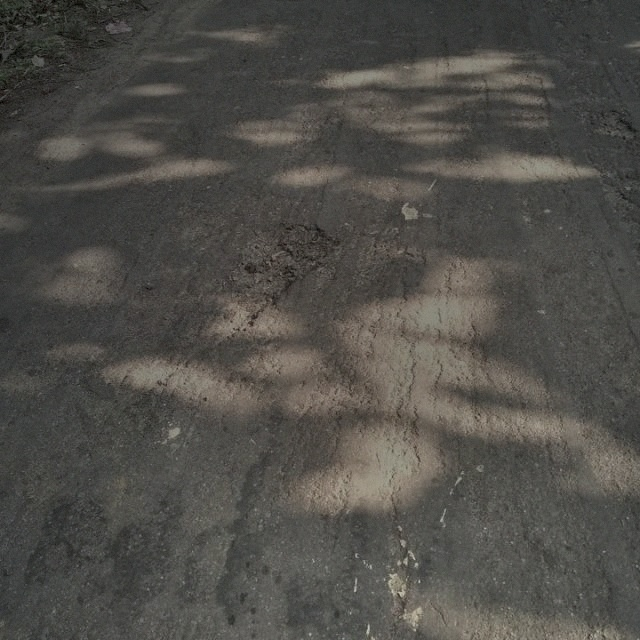pothole: (225, 218, 341, 340), (589, 107, 639, 142)
